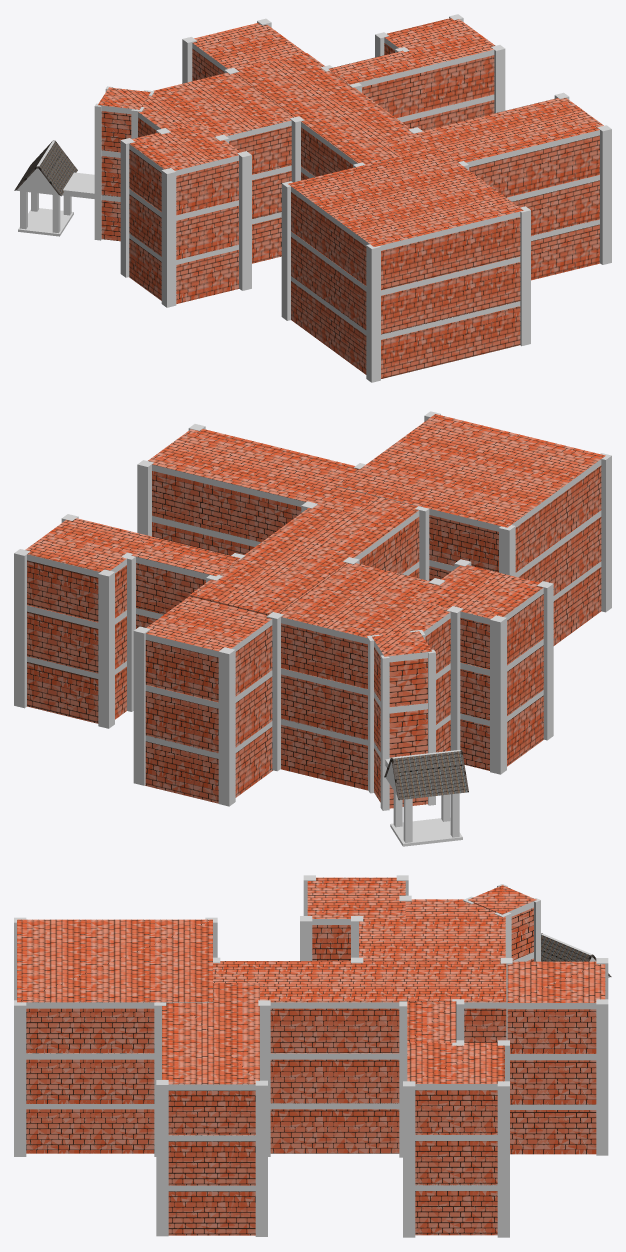
File: archi.fbx
3 renders of one model, top to bottom at view 1: azimuth 30°, elevation 25°; view 2: azimuth 150°, elevation 25°; view 3: azimuth 270°, elevation 25°, orthographic. The views are drawn at different scales.
Parts seen in each view (by area): view 1: pCube13, pCube11, pCube12, pCube25, pCube19, pCube43, pCube24, pCube14, pCube18, pCube26, pCube20, pCube39 (+4 smaller); view 2: pCube13, pCube11, pCube12, pCube43, pCube35, pCube26, pCube31, pCube34, pCube30, pCube25, pCube19, pCube27 (+9 smaller); view 3: pCube13, pCube11, pCube12, pCube14, pCube29, pCube30, pCube34, pCube15, pCube18, pCube16, pCube28, pCube43 (+2 smaller).
Boxes of the visible parts, x1,y1,x2,y2 form: pCube13: (98,18,603,289); pCube11: (101,94,599,334); pCube12: (62,172,599,378); pCube25: (161,168,176,307); pCube19: (366,244,380,382); pCube43: (14,140,77,196); pCube24: (237,151,251,290); pCube14: (597,125,611,264); pCube18: (520,206,530,346); pCube26: (120,138,134,277); pCube20: (281,181,292,320); pCube39: (94,103,101,240); pCube13: (25,414,605,706); pCube11: (27,510,601,757); pCube12: (27,561,601,808); pCube43: (384,749,468,800); pCube35: (218,647,235,806); pCube26: (490,615,506,774); pCube31: (98,569,114,728); pCube34: (133,626,150,785); pCube30: (14,549,30,708); pCube25: (537,581,553,740); pCube19: (600,453,611,612); pCube27: (446,606,462,750); pCube13: (17,877,605,1134); pCube11: (26,952,596,1185); pCube12: (26,1103,596,1235); pCube14: (156,1080,168,1236); pCube29: (403,1081,415,1237); pCube30: (497,1081,509,1237); pCube34: (596,999,608,1155); pCube15: (255,1080,267,1236); pCube18: (14,1000,26,1156); pCube16: (258,1000,270,1156); pCube28: (399,1001,407,1157); pCube43: (541,933,611,977).
Size of the model in its own units: 11.27 by 3.45 by 12.22.
Materials: 3 (2 with a texture image).
